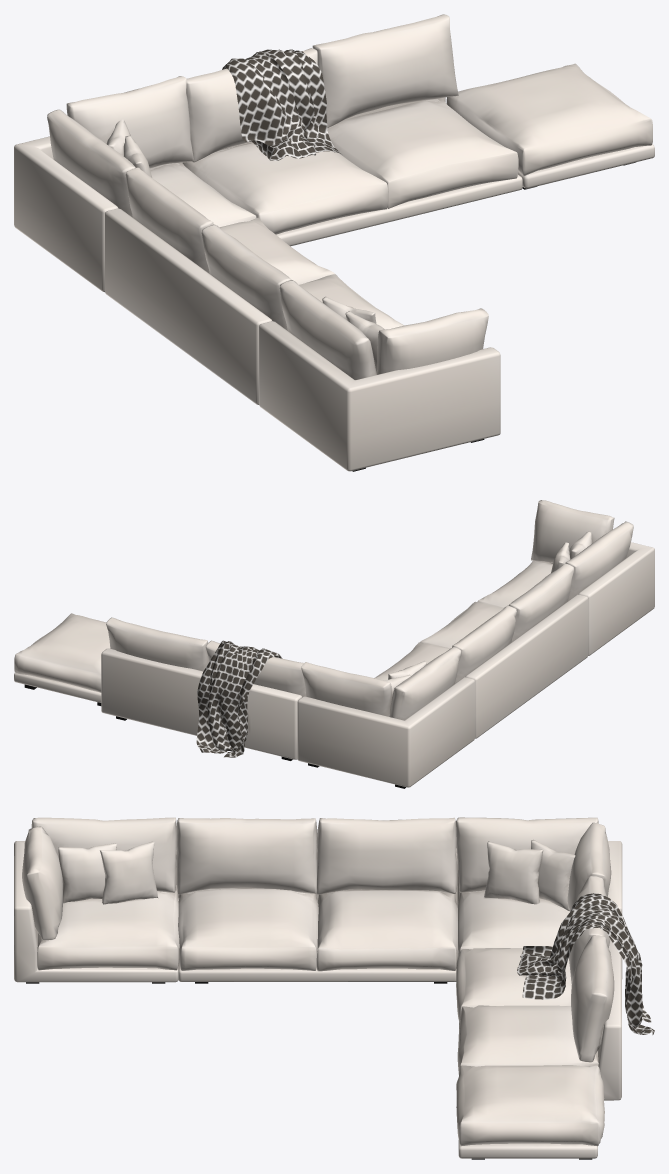
File: large_corner_sectional_sofa.glb
3 views of the same model, one above another, from view 1: azimuth 30°, elevation 25°; view 2: azimuth 150°, elevation 25°; view 3: azimuth 270°, elevation 25° (orthographic). The views are drawn at different scales.
Visible parts, largest first — view 1: large sectional couch Low Poly; view 2: large sectional couch Low Poly; view 3: large sectional couch Low Poly.
Part boxes in pixels (x1,y1,x2,y2): large sectional couch Low Poly: (14, 14, 654, 471); large sectional couch Low Poly: (14, 500, 654, 788); large sectional couch Low Poly: (14, 817, 654, 1159).
Size of the model in its own units: 4.62 by 1.04 by 5.09.
1 material, 1 textured.
